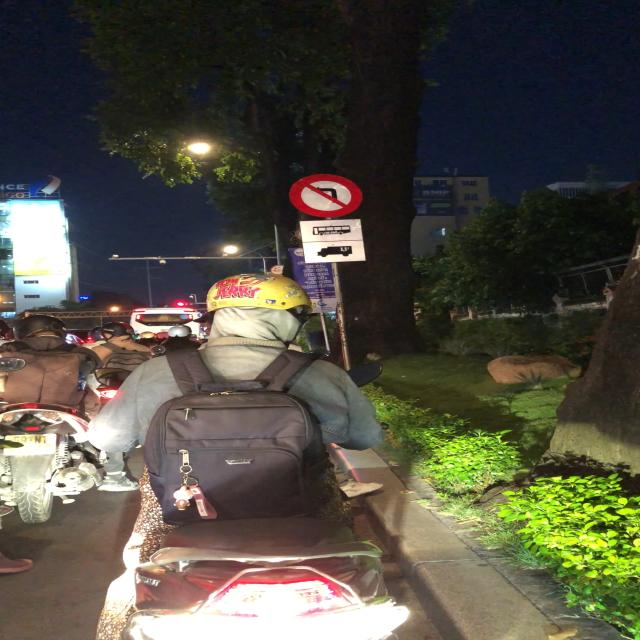Bien bao cam re trai: (286, 169, 364, 218)
